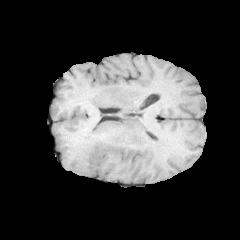glioma: (64, 111, 161, 176)
